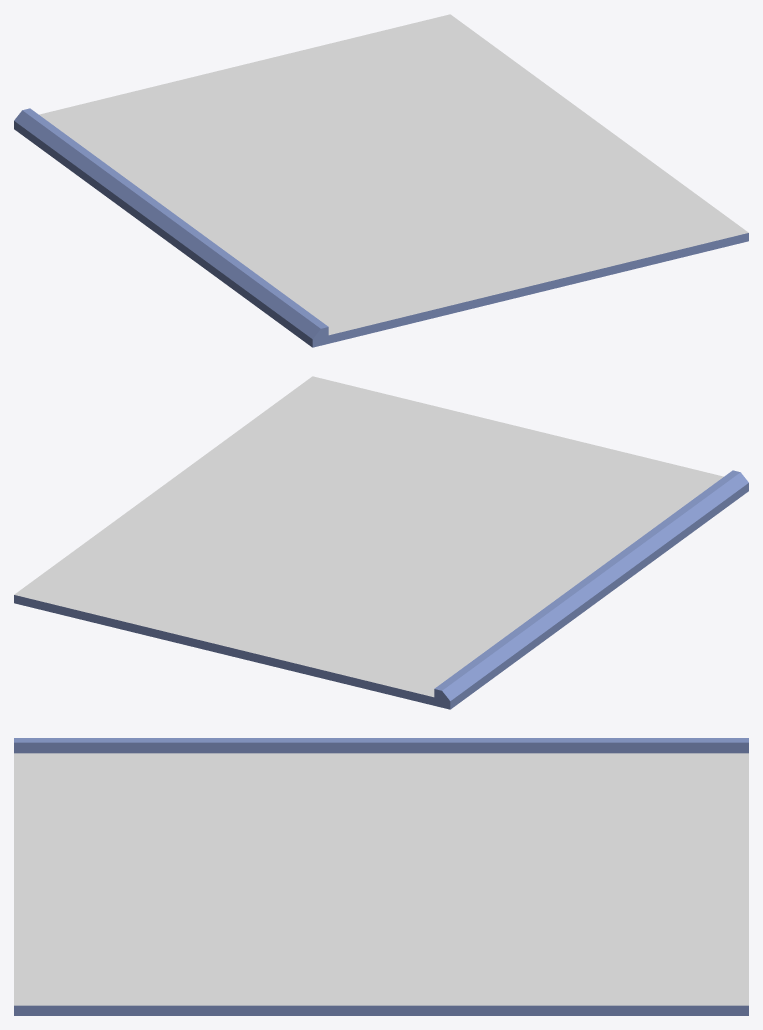
File: tile-fork-full.glb
3 renders of one model, top to bottom at view 1: azimuth 30°, elevation 25°; view 2: azimuth 150°, elevation 25°; view 3: azimuth 270°, elevation 25°, orthographic. The views are drawn at different scales.
Parts seen in each view (by area): view 1: tiles-fork-full; view 2: tiles-fork-full; view 3: tiles-fork-full.
Boxes of the visible parts, x1,y1,x2,y2 form: tiles-fork-full: [14, 14, 748, 347]; tiles-fork-full: [14, 376, 748, 709]; tiles-fork-full: [14, 738, 748, 1015].
Bounding box in the file's own units: 13.5 × 0.5 × 16.
